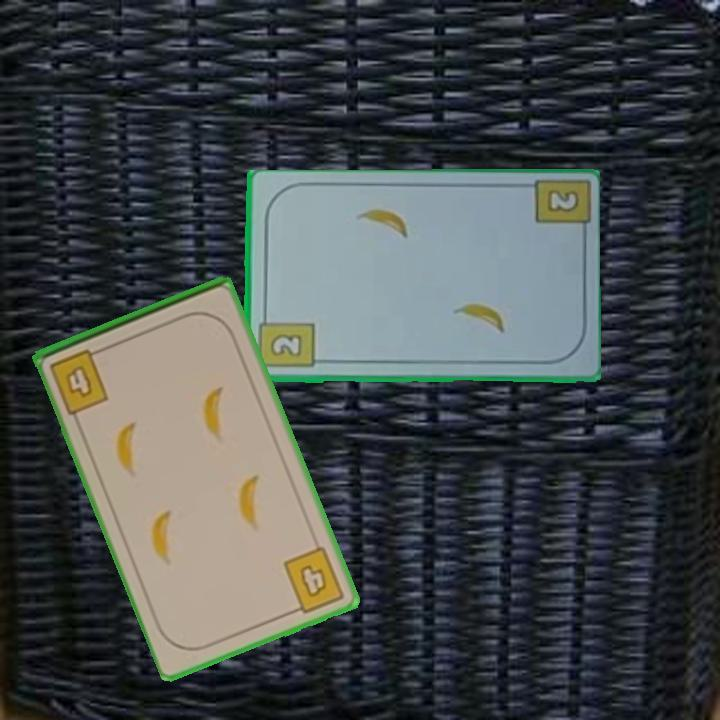2b: (254, 310, 316, 371), (543, 186, 582, 215)
4b: (280, 543, 348, 618), (46, 344, 113, 418)
